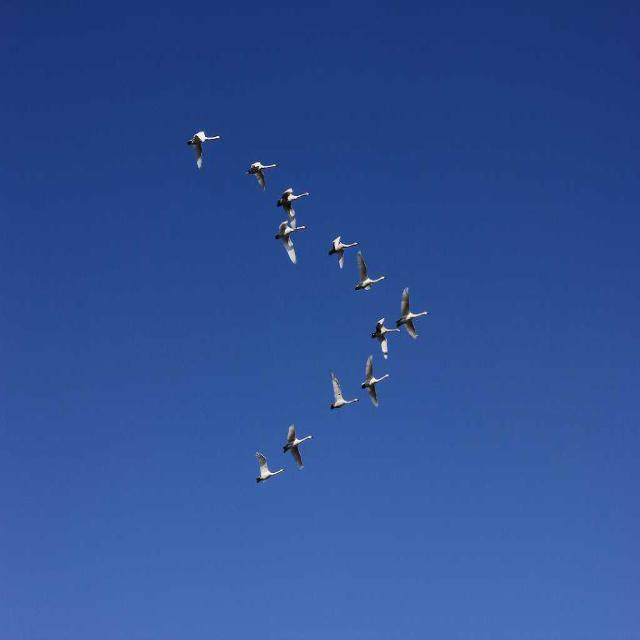bird: (395, 291, 432, 338), (271, 222, 308, 266), (361, 356, 391, 406), (185, 133, 222, 173), (352, 251, 387, 293), (282, 425, 312, 470), (328, 372, 361, 410), (275, 186, 311, 219), (368, 318, 396, 358), (245, 163, 278, 196), (327, 235, 356, 272), (254, 454, 287, 484)
